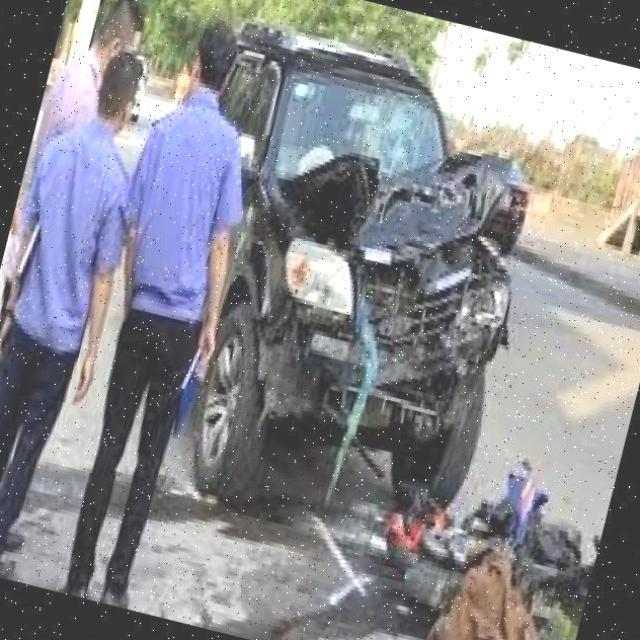accident: (172, 22, 568, 523), (351, 417, 617, 640)
